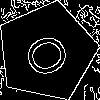O: (21, 26, 81, 81)
